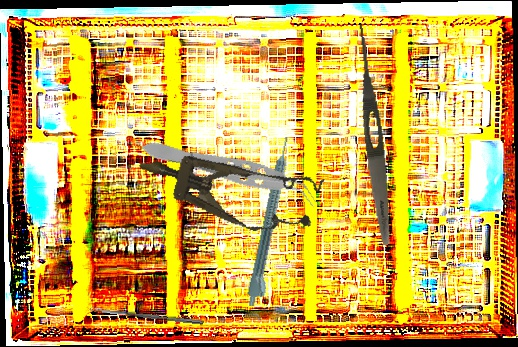Dressing Forceps: (350, 23, 396, 246)
Handpiece: (244, 135, 301, 309)
Speculum: (130, 131, 326, 246)
Surgical Spoon: (90, 306, 204, 325)
Tissue Forceps: (138, 132, 324, 210)
